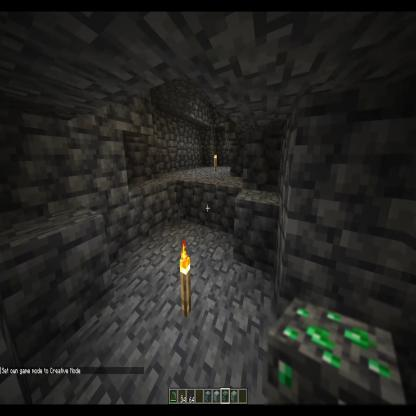emerald ore: (264, 297, 408, 416)
